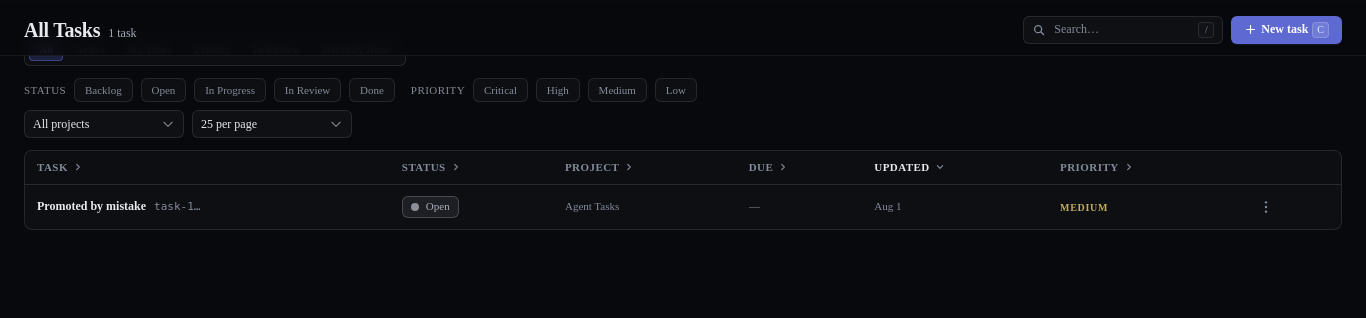
Test: /tasks page -- Move to backlog row action › clicking it PATCHes status backlog and re-fetches the list, which now shows the task as backlog
What coordinates should you click on to do the following:
click the button named "Actions for Promoted by mistake"
I would click on:
 (1266, 207)
Its box is [1252, 193, 1280, 221].
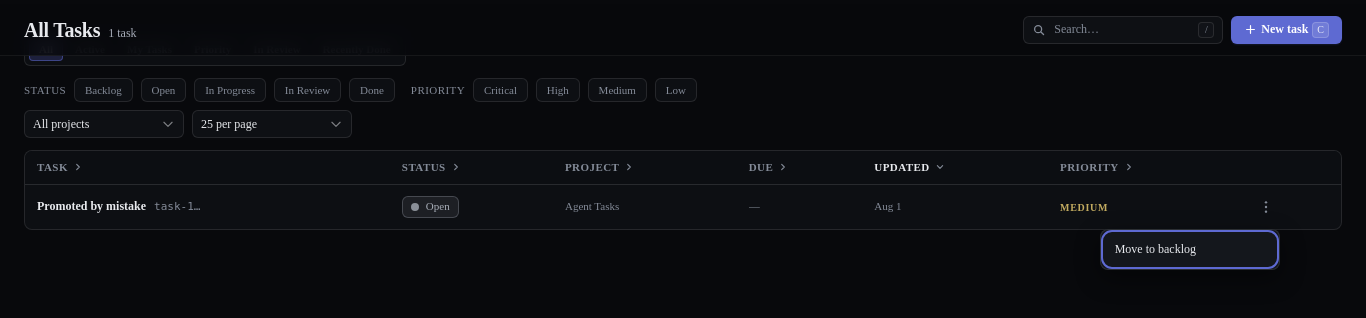
What coordinates should you click on to do the following:
click the menu item "Move to backlog"
I would click on:
 (1190, 249)
Its box is [1105, 234, 1275, 265].
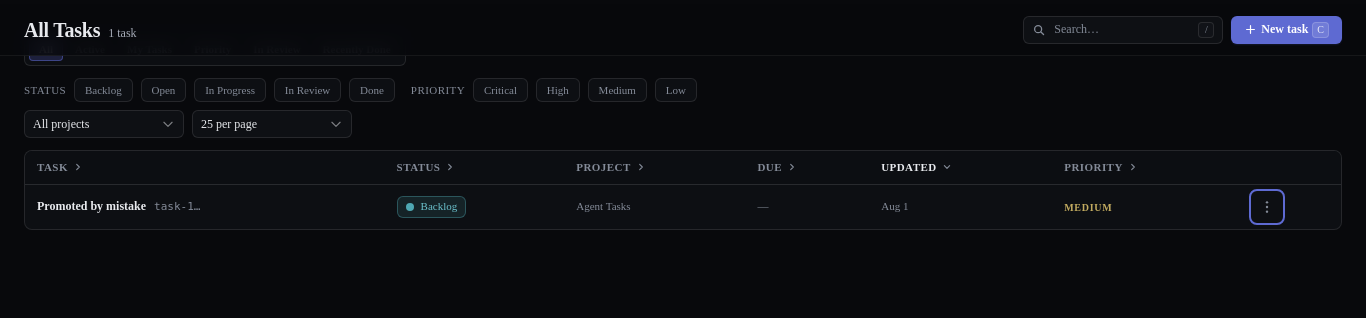
What coordinates should you click on to do the following:
click the button named "Actions for Promoted by mistake"
I would click on:
 (1267, 207)
Its box is [1253, 193, 1281, 221].
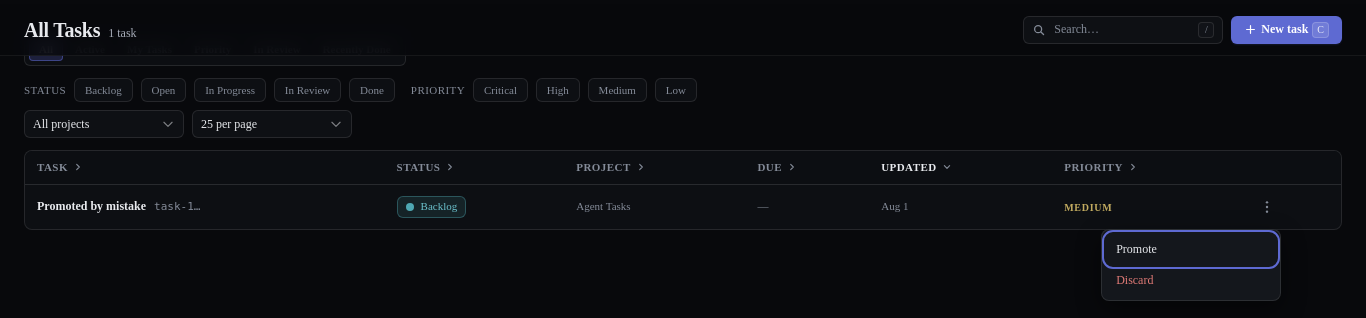
Expected: the menu item "Move to backlog" is not shown
Now the menu item "Promote" is shown, box [1106, 234, 1276, 265]
